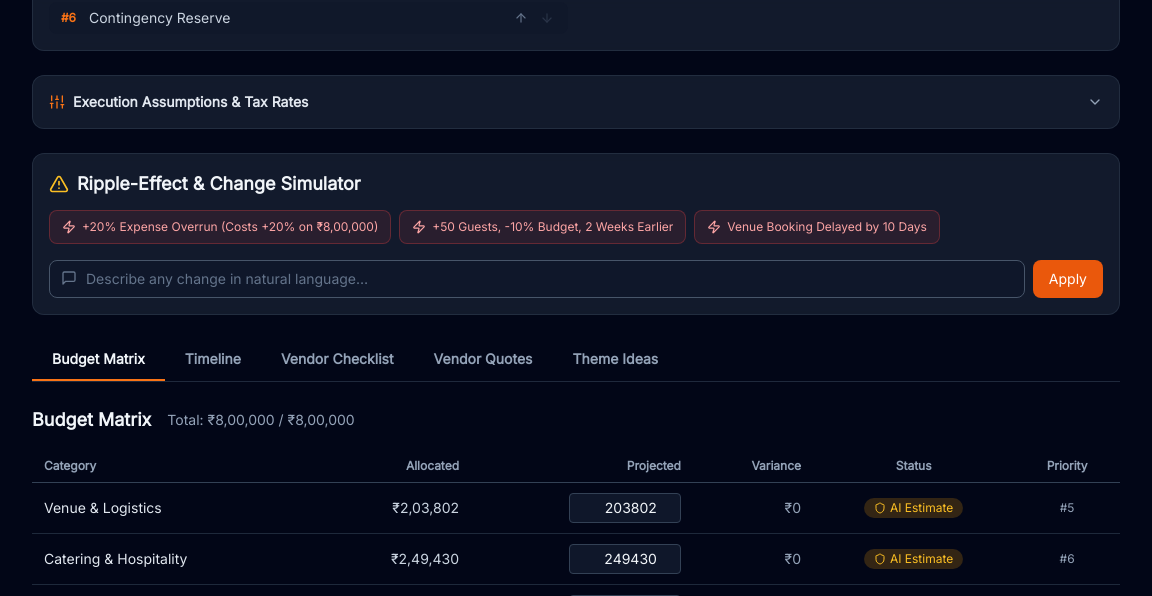
App root component › should switch between tabs on click
(page scrolled)
Click the tab with aria-label "Switch to Timeline tab": (213, 360) [165, 339, 261, 381]
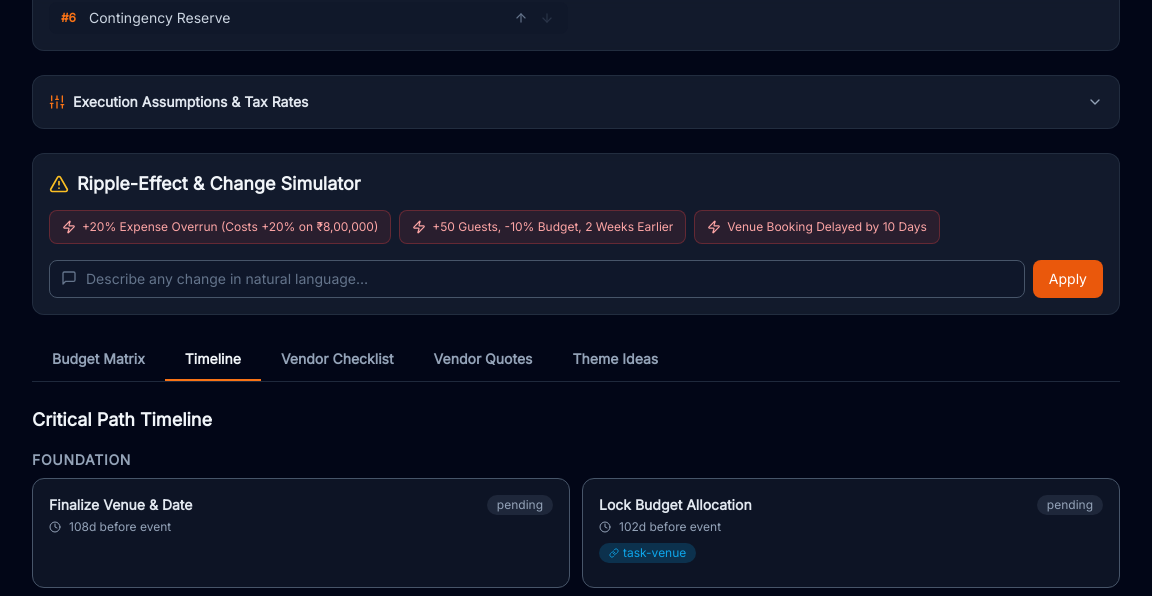
Expected: the heading "Critical Path Timeline" is shown, [32, 409, 212, 430]
Click the tab with aria-label "Switch to Vendor Quotes tab": (483, 360) [414, 339, 552, 381]
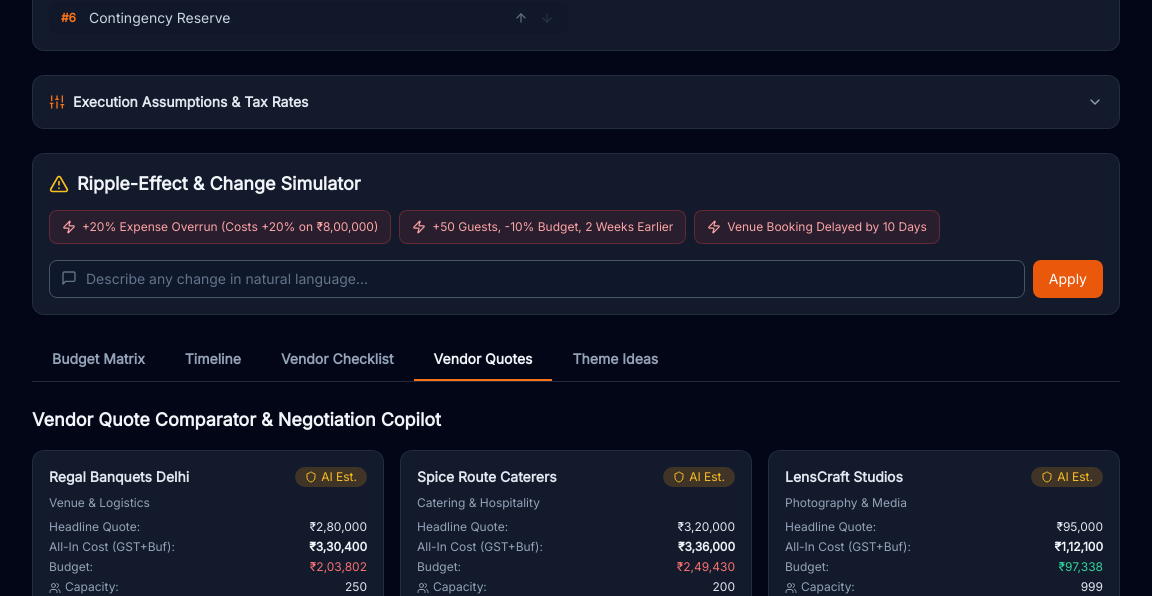
Expected: the heading "Vendor Quote Comparator & Negotiation Copilot" is shown, [32, 409, 441, 430]
